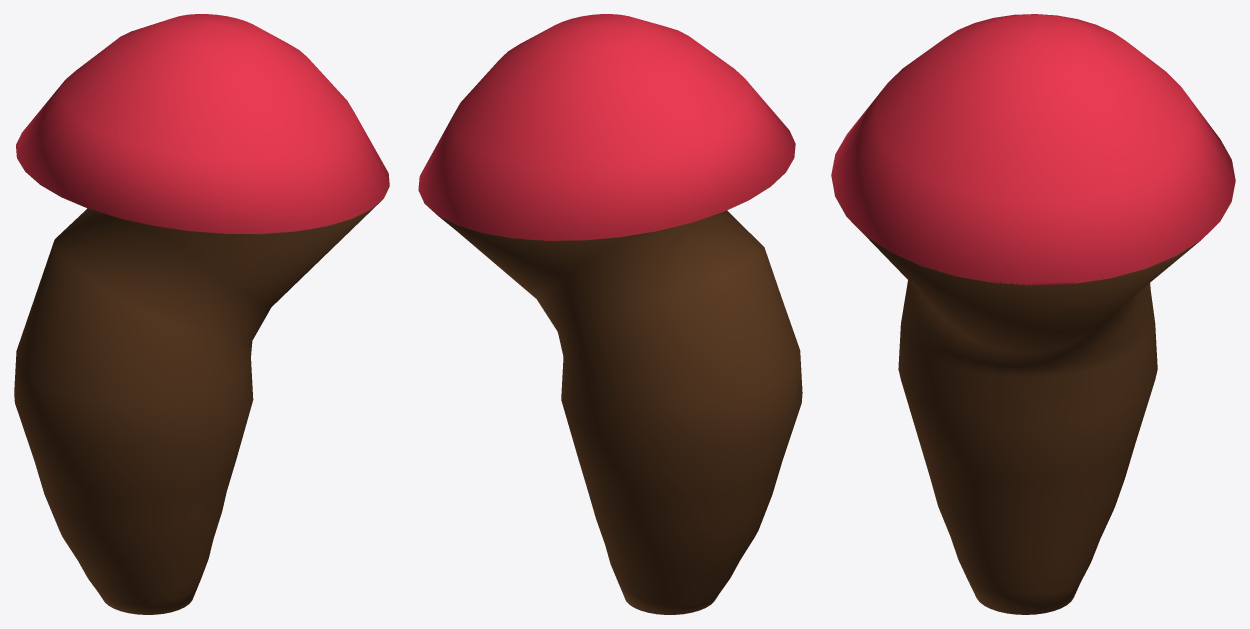
Rendered from bean_lil.fbx.
3 renders of one model, left to right at view 1: azimuth 30°, elevation 25°; view 2: azimuth 150°, elevation 25°; view 3: azimuth 270°, elevation 25°, orthographic. The views are drawn at different scales.
Visible parts, largest first — view 1: Sphere; view 2: Sphere; view 3: Sphere.
Boxes of the visible parts, x1=… form: Sphere: x1=14, y1=14, x2=389, y2=614; Sphere: x1=418, y1=14, x2=802, y2=614; Sphere: x1=831, y1=14, x2=1235, y2=614.
Bounding box in the file's own units: 24.17 × 37.87 × 23.16.
2 materials, 1 textured.
